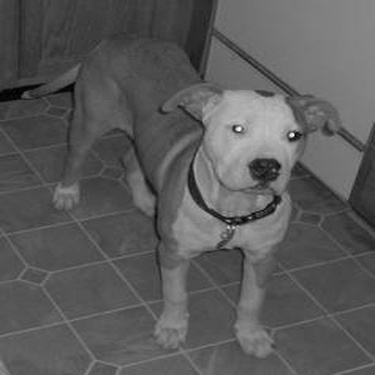dog: (16, 25, 345, 361)
